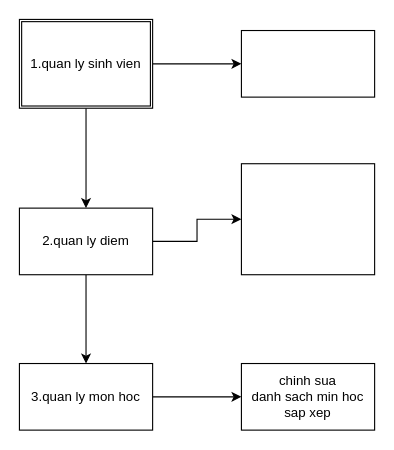
The diagram is 394 pixels wide and 450 high, and some of its shapes have lost their labels. Here are the shapes that lost their labels. From the top down, the centre of each, then its label:
(x=307, y=63): danh sach sinh vien tim kiem chinh sua thong tin sap xep
(x=307, y=219): diem\ tim kiem chinh sua max min
